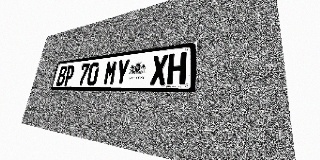0: (86, 62, 100, 86)
7: (77, 63, 90, 86)
B: (56, 66, 68, 86)
H: (167, 52, 187, 85)
M: (103, 60, 118, 85)
P: (63, 65, 75, 86)
X: (150, 54, 169, 85)
Y: (114, 58, 130, 85)
